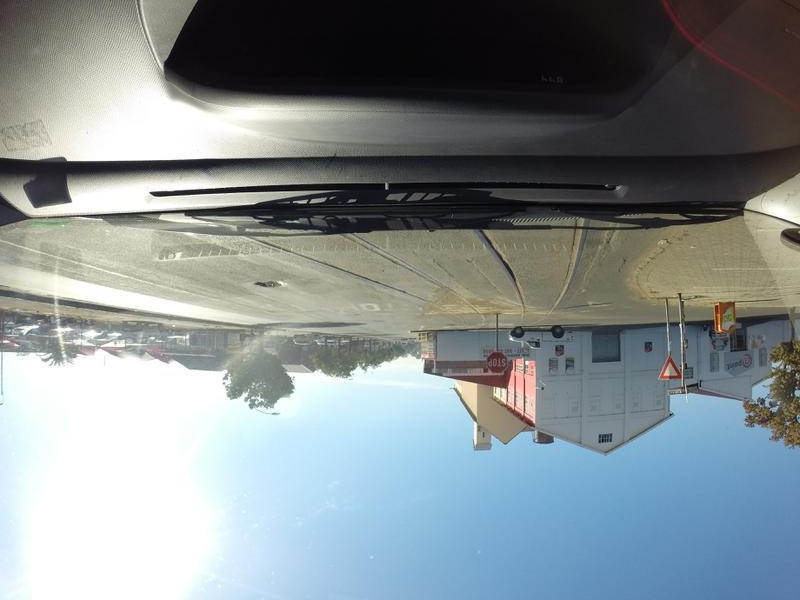pothole: (246, 270, 283, 293)
